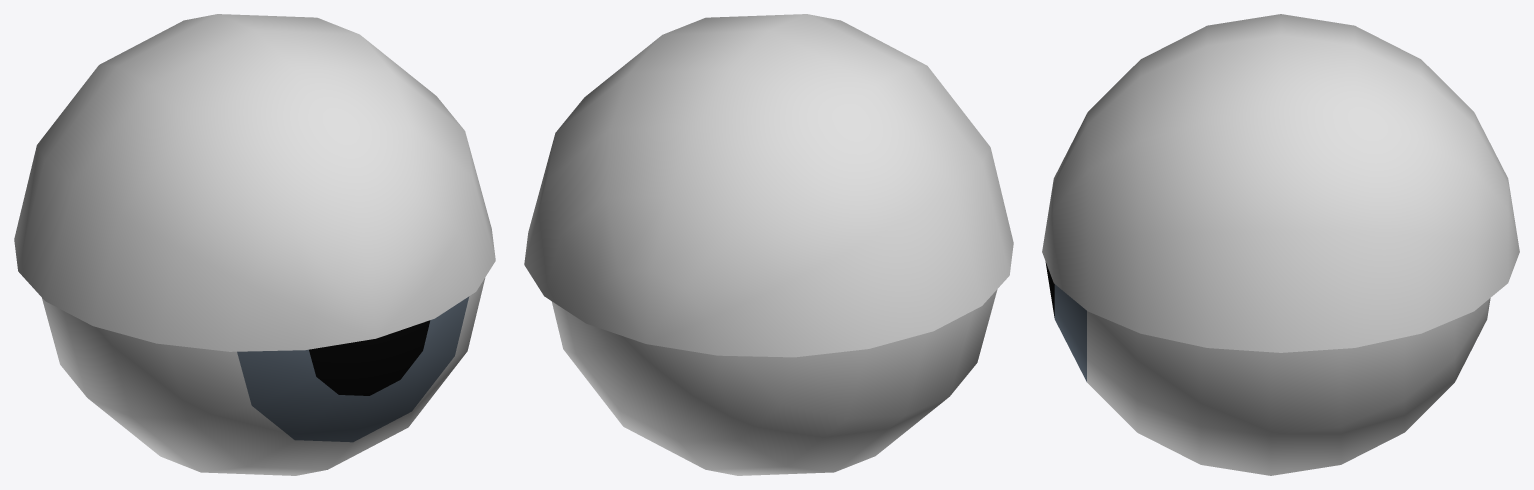
Rendered from microwaveEye_mdl.fbx.
The picture shows the model from 3 angles, left to right: view 1: azimuth 30°, elevation 25°; view 2: azimuth 150°, elevation 25°; view 3: azimuth 270°, elevation 25°; orthographic projection. The views are drawn at different scales.
Parts seen in each view (by area): view 1: eyelid_geo, eyeball_geo; view 2: eyelid_geo, eyeball_geo; view 3: eyelid_geo, eyeball_geo.
Part boxes in pixels (x1,y1,x2,y2): eyelid_geo: (14,14,495,351); eyeball_geo: (42,278,485,475); eyelid_geo: (524,14,1013,357); eyeball_geo: (551,289,997,475); eyelid_geo: (1042,14,1519,352); eyeball_geo: (1045,262,1490,475).
Size of the model in its own units: 0.0681 by 0.066 by 0.0681.
